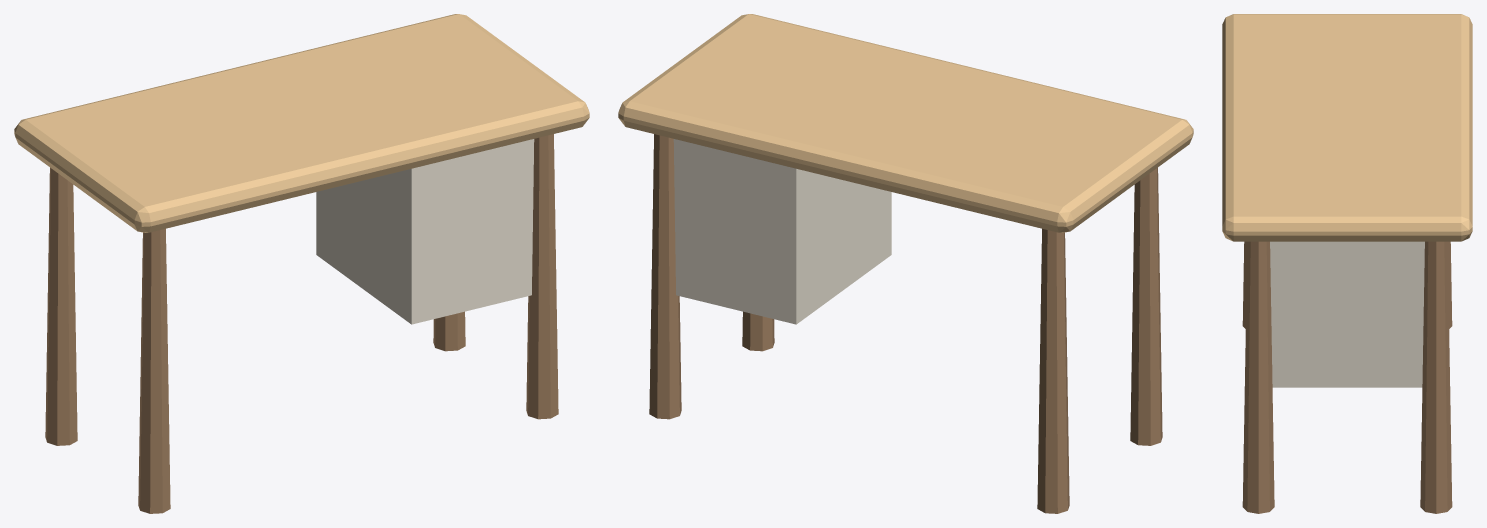
Rendered from cozy-home-interiors-bedroom-desk-0888b7f6.glb.
The picture shows the model from 3 angles, left to right: view 1: azimuth 30°, elevation 25°; view 2: azimuth 150°, elevation 25°; view 3: azimuth 270°, elevation 25°; orthographic projection. The views are drawn at different scales.
Parts seen in each view (by area): view 1: bedroom-desk; view 2: bedroom-desk; view 3: bedroom-desk.
Part boxes in pixels (x1,y1,x2,y2): bedroom-desk: (14, 14, 589, 513); bedroom-desk: (618, 14, 1193, 513); bedroom-desk: (1222, 14, 1472, 513).
Bounding box in the file's own units: 1.1 × 0.73 × 0.5501.
